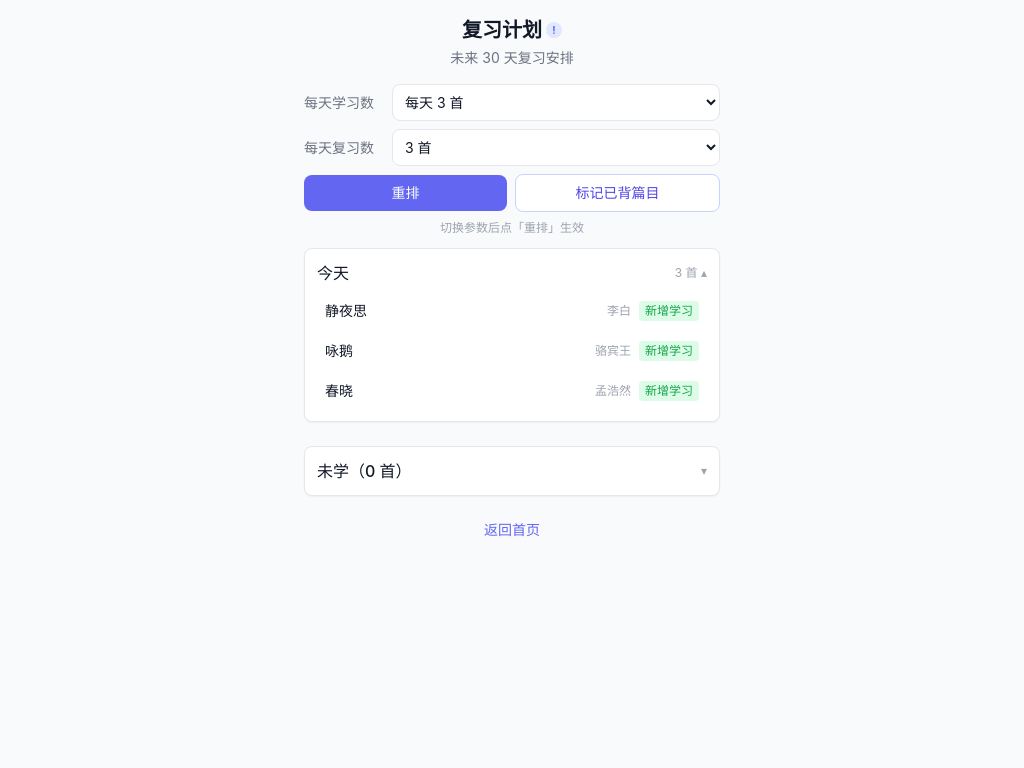
Test: ReviewPlanPage › cancel closes batch config without changes
The width and height of the screenshot is (1024, 768).
Click the button "标记已背篇目" at (618, 193), box [515,174,720,212]
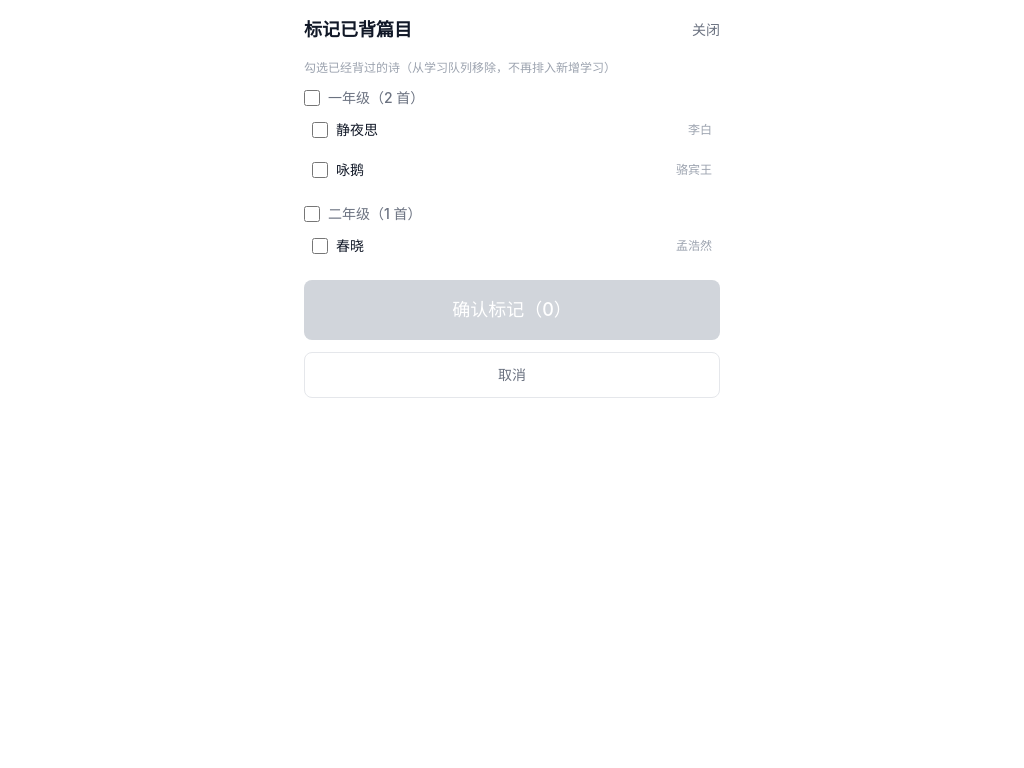
Click the button "取消" at (512, 375), box [304,352,720,398]
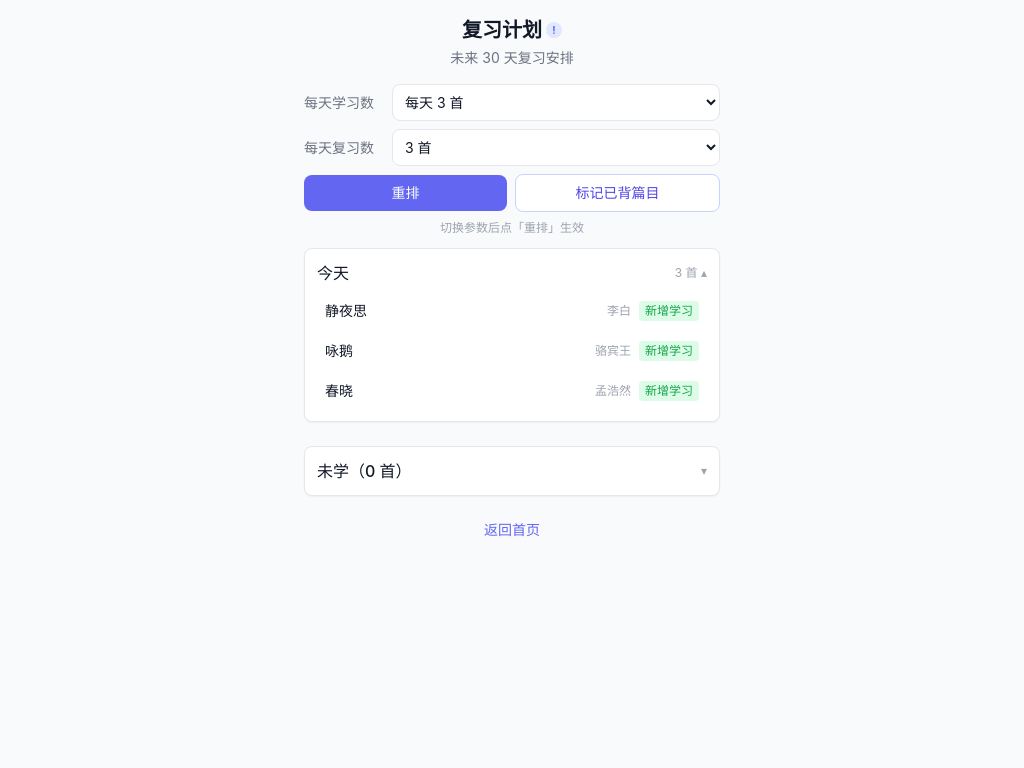
Expected: the text "勾选已经背过的诗" is gone
